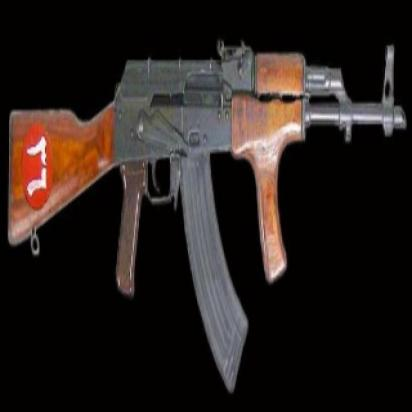Gun: (4, 37, 405, 388)
